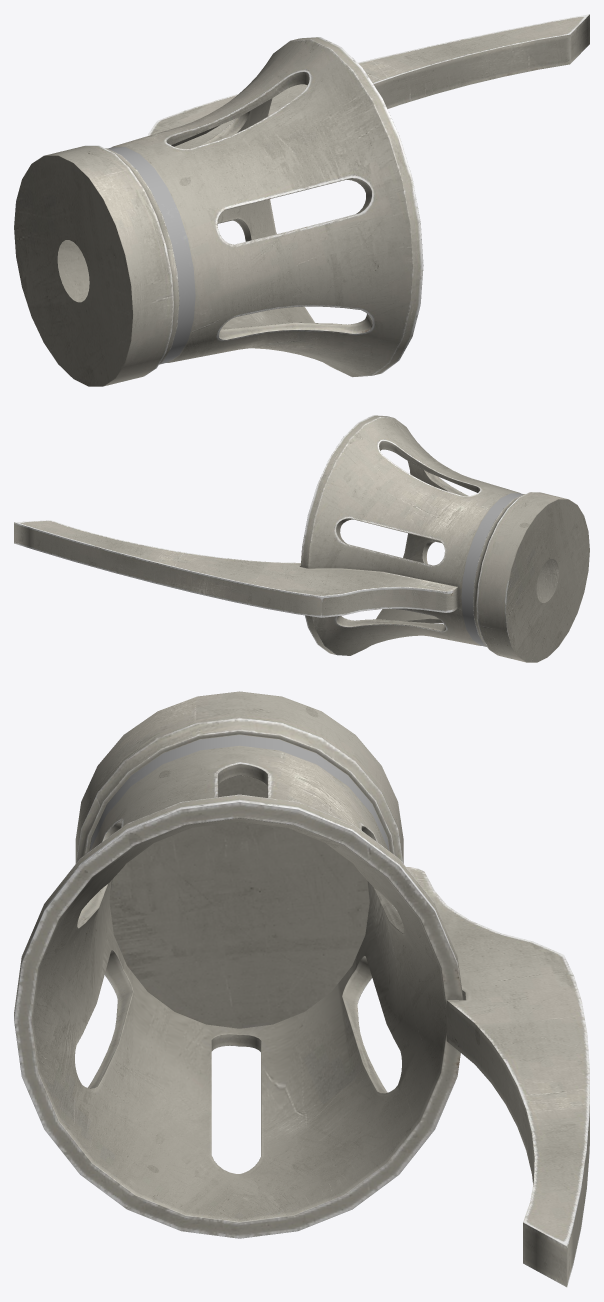
The model's file is guard_20_r_d.glb.
The picture shows the model from 3 angles, top to bottom: view 1: azimuth 30°, elevation 25°; view 2: azimuth 150°, elevation 25°; view 3: azimuth 270°, elevation 25°; orthographic projection. The views are drawn at different scales.
Visible parts, largest first — view 1: guard_20_r_d_lod0; view 2: guard_20_r_d_lod0; view 3: guard_20_r_d_lod0.
Boxes of the visible parts, bbox=[...] form: guard_20_r_d_lod0: bbox=[14, 14, 589, 386]; guard_20_r_d_lod0: bbox=[14, 415, 589, 662]; guard_20_r_d_lod0: bbox=[14, 691, 589, 1287].
Size of what is drawn, in the model's own units: 0.0892 by 0.0426 by 0.0509.
Materials: 1 (1 with a texture image).
